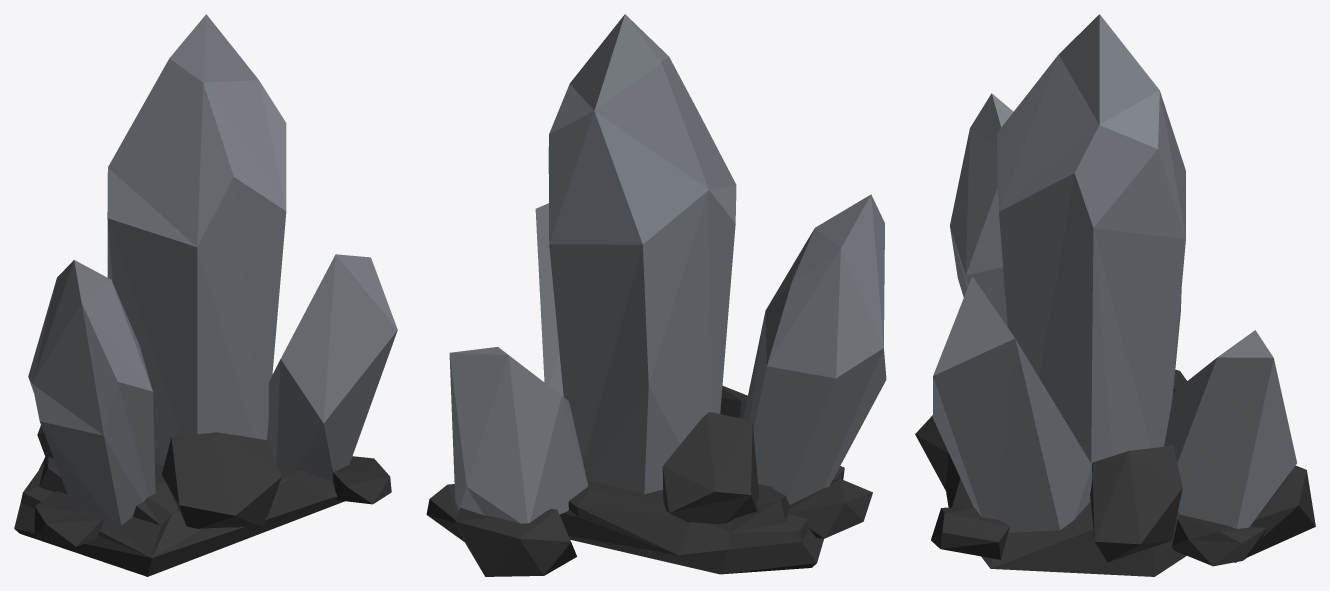
File: Gem_03.FBX
The picture shows the model from 3 angles, left to right: view 1: azimuth 30°, elevation 25°; view 2: azimuth 150°, elevation 25°; view 3: azimuth 270°, elevation 25°; orthographic projection. The views are drawn at different scales.
Visible parts, largest first — view 1: Gem_03; view 2: Gem_03; view 3: Gem_03.
Part boxes in pixels (left/top/right/bottom): Gem_03: left=14, top=14, right=397, bottom=576; Gem_03: left=426, top=14, right=886, bottom=576; Gem_03: left=915, top=14, right=1315, bottom=576.
Bounding box in the file's own units: 49.8 × 67.11 × 47.72.
